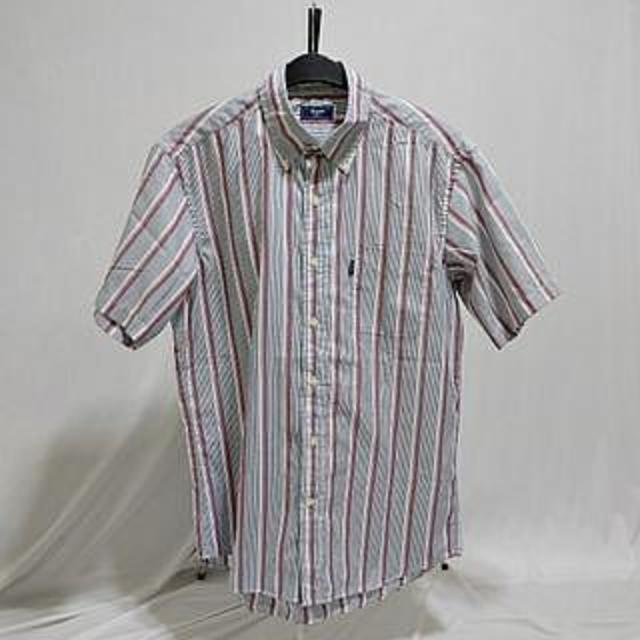SHIRT: (66, 52, 593, 624)
